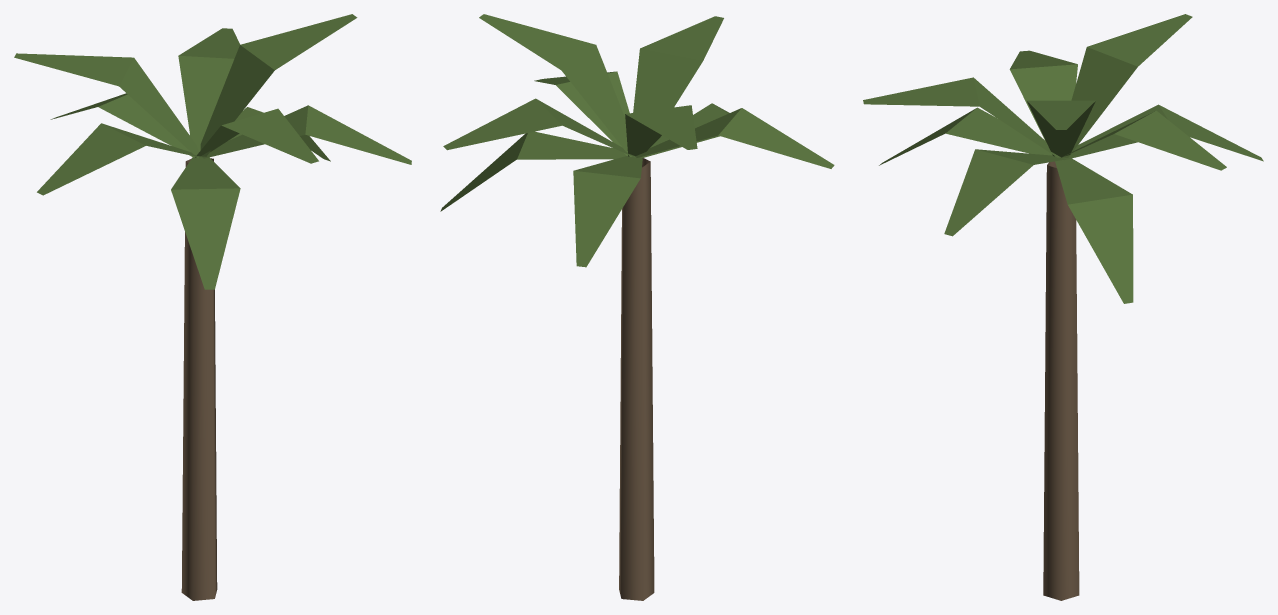
The model's file is palm_far.glb.
3 views of the same model, side by side, from view 1: azimuth 30°, elevation 25°; view 2: azimuth 150°, elevation 25°; view 3: azimuth 270°, elevation 25° (orthographic).
Parts seen in each view (by area): view 1: palm_far; view 2: palm_far; view 3: palm_far.
Boxes of the visible parts, x1=… form: palm_far: x1=14, y1=14, x2=411, y2=600; palm_far: x1=440, y1=14, x2=834, y2=600; palm_far: x1=863, y1=14, x2=1263, y2=600.
Bounding box in the file's own units: 6.22 × 9.39 × 6.34.
